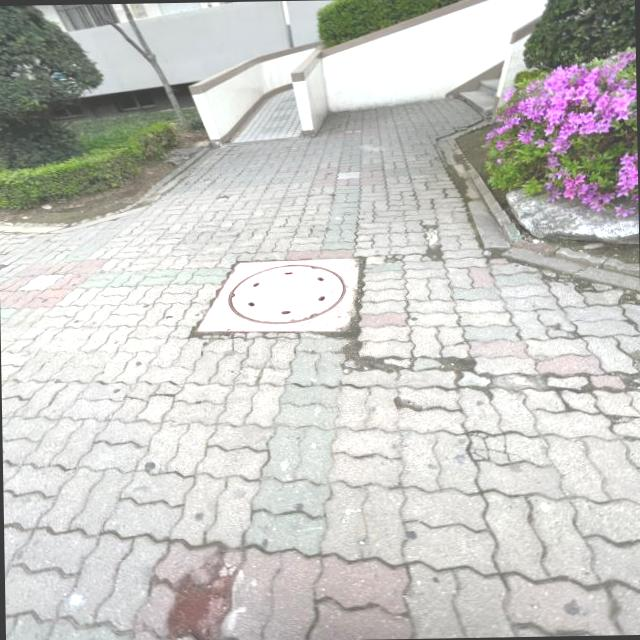manhole: (192, 246, 389, 352)
